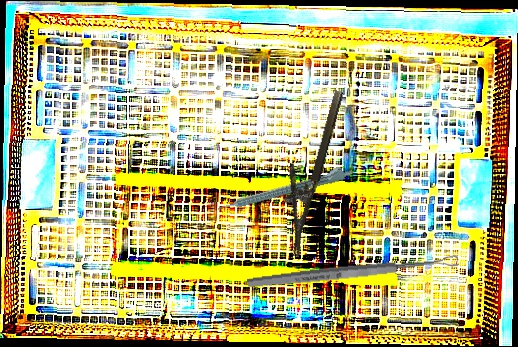Handpiece: (215, 162, 353, 214)
Needle Holder: (266, 83, 346, 258)
Surgical Spoon: (246, 253, 460, 291)
